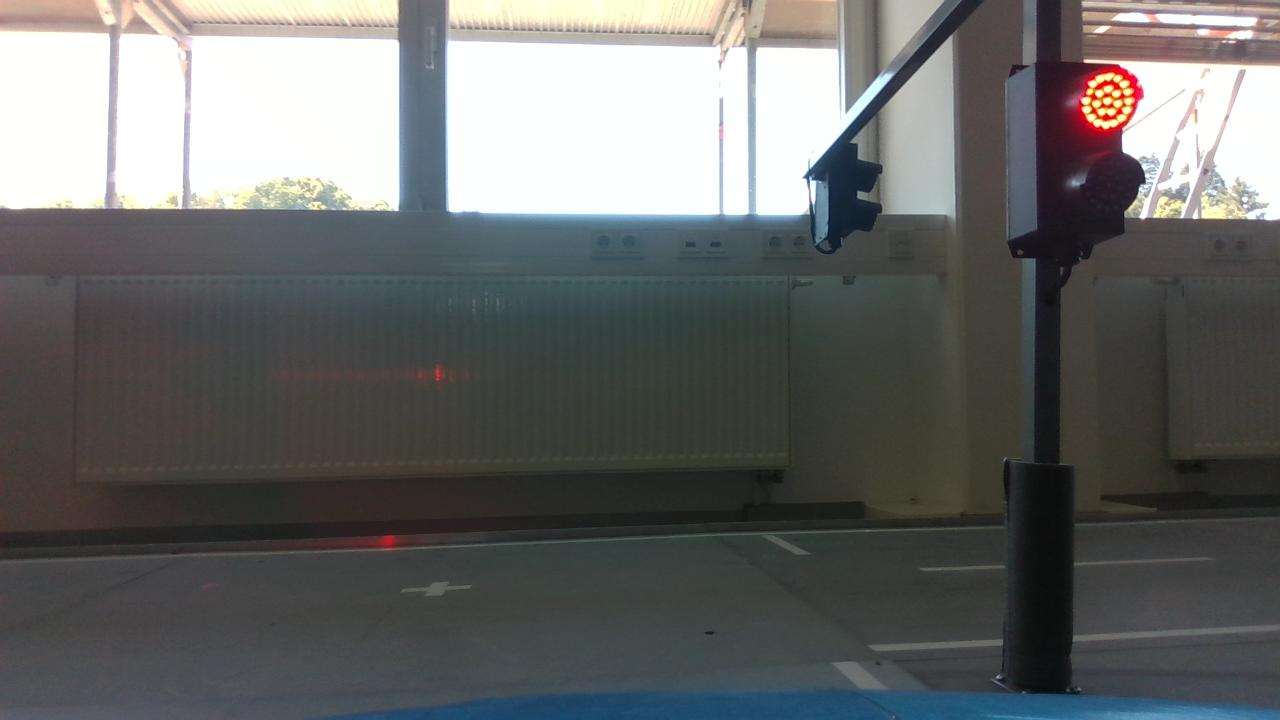traffic_light_red: (991, 49, 1159, 276)
